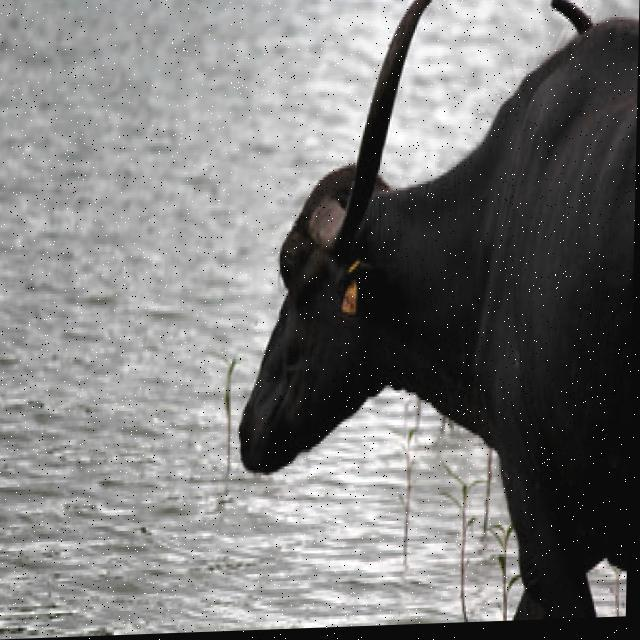Buffalo: (229, 0, 638, 628)
